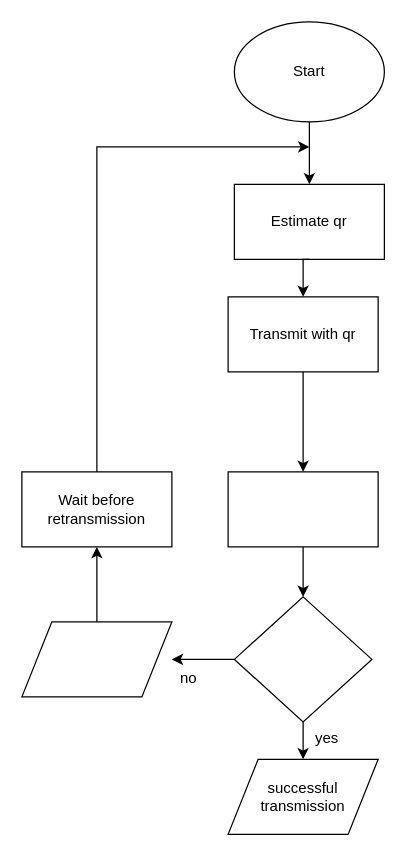
Some shapes in this 406 by 856 pixel diagram are drawn without their labels. The shapes that lost their labels are listed below. From the top down, each one's centre as x and y in pixels, then its label:
the point at 302,509: wait for feedback
the point at 96,659: collision
the point at 302,659: is feedback = 1?
